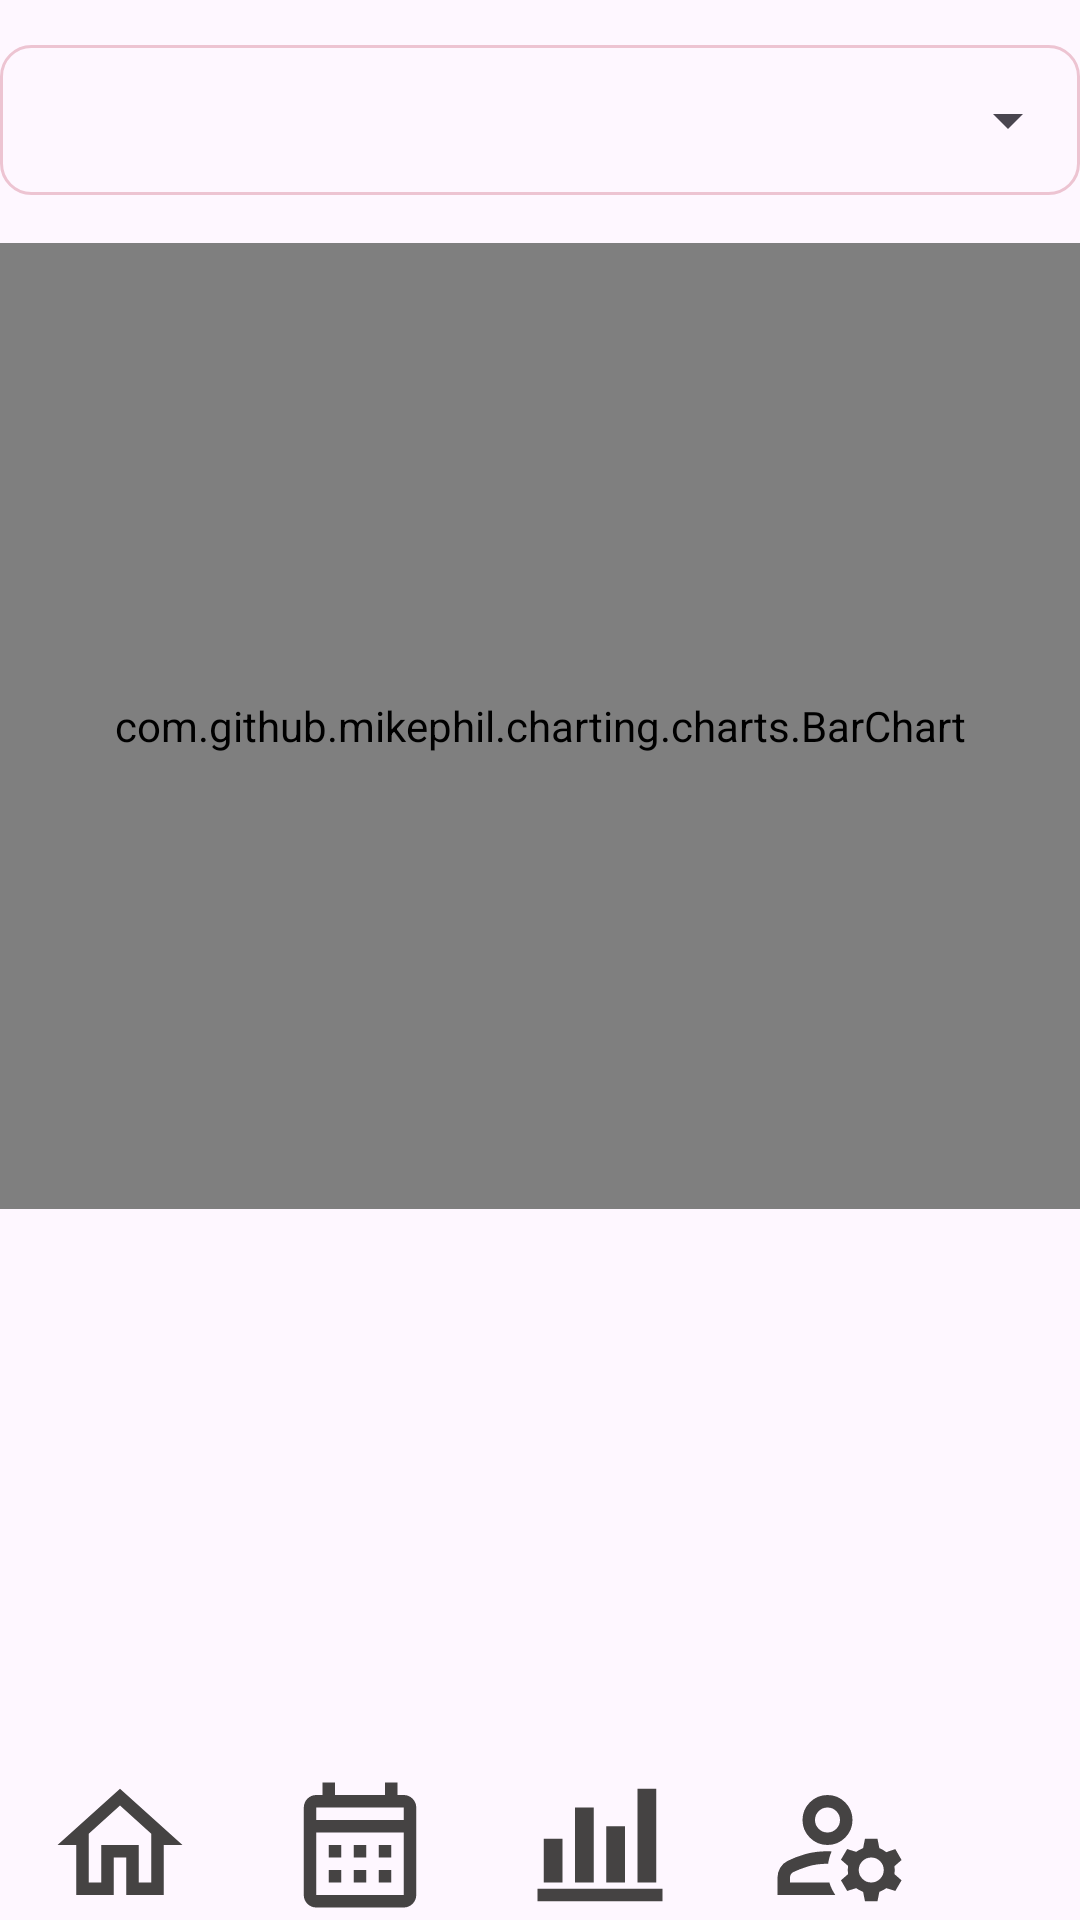

Named icons in this screenshot (1080 × 1920) and their centers, (x=x, y=y):
bar chart bars: (x=600, y=1845)
calendar month: (x=360, y=1845)
home: (x=120, y=1842)
manage accounts: (x=839, y=1848)
